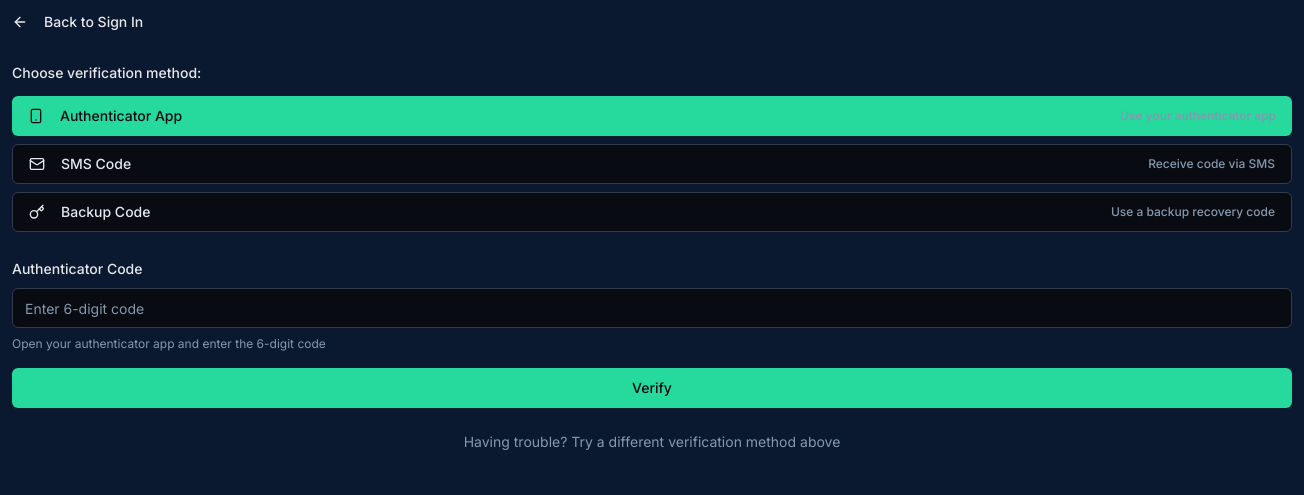
Test: TwoFactorForm › Error Handling › should handle expired code error
This screenshot has width=1304, height=495.
Type "123456" into the field labelled "Authenticator Code".
click(652, 308); type("123456")  # box left=12, top=288, right=1292, bottom=328
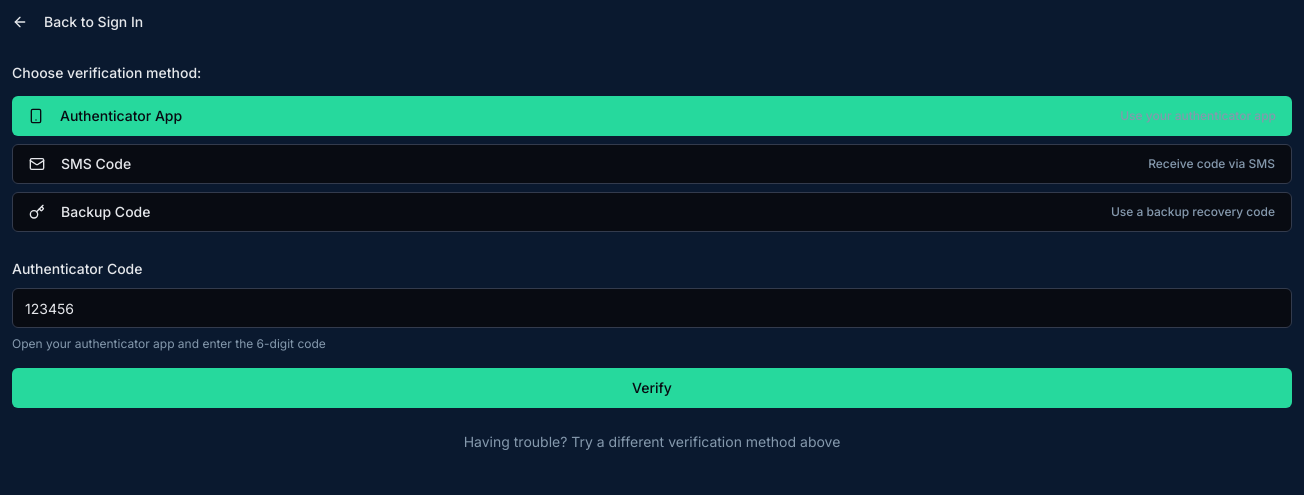
Click the button "Verify".
click(652, 388)  # box left=12, top=368, right=1292, bottom=408
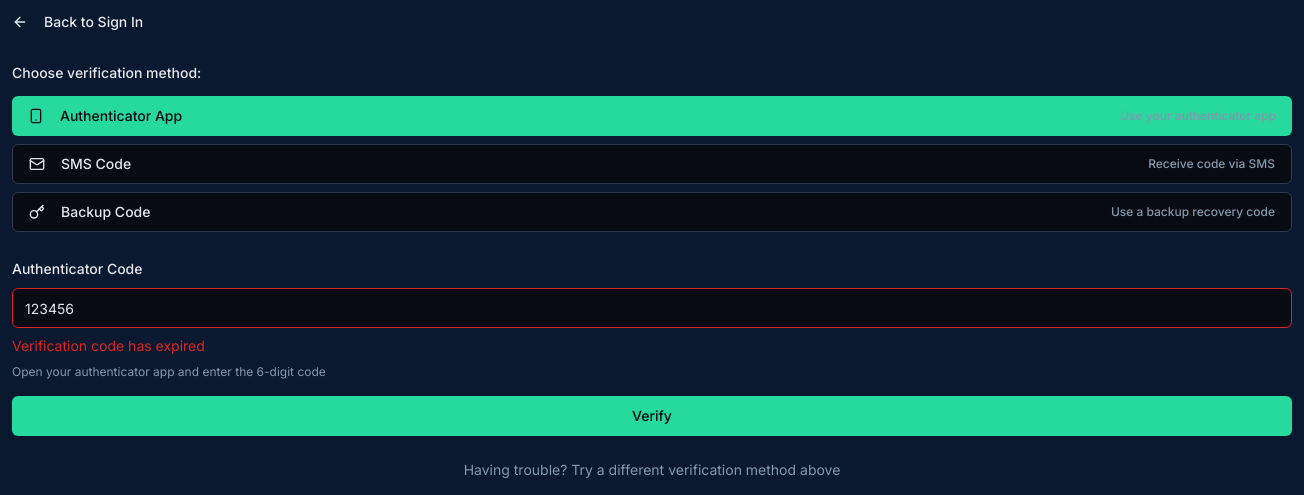
Result: the text "Verification code has expired" is shown at left=12, top=337, right=205, bottom=354
